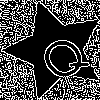Q: (30, 25, 93, 87)
